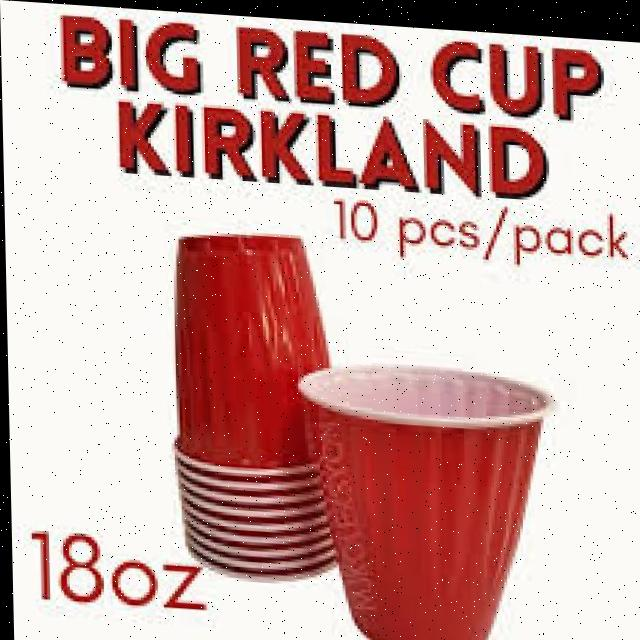cup: (295, 333, 564, 640), (153, 226, 344, 477)
